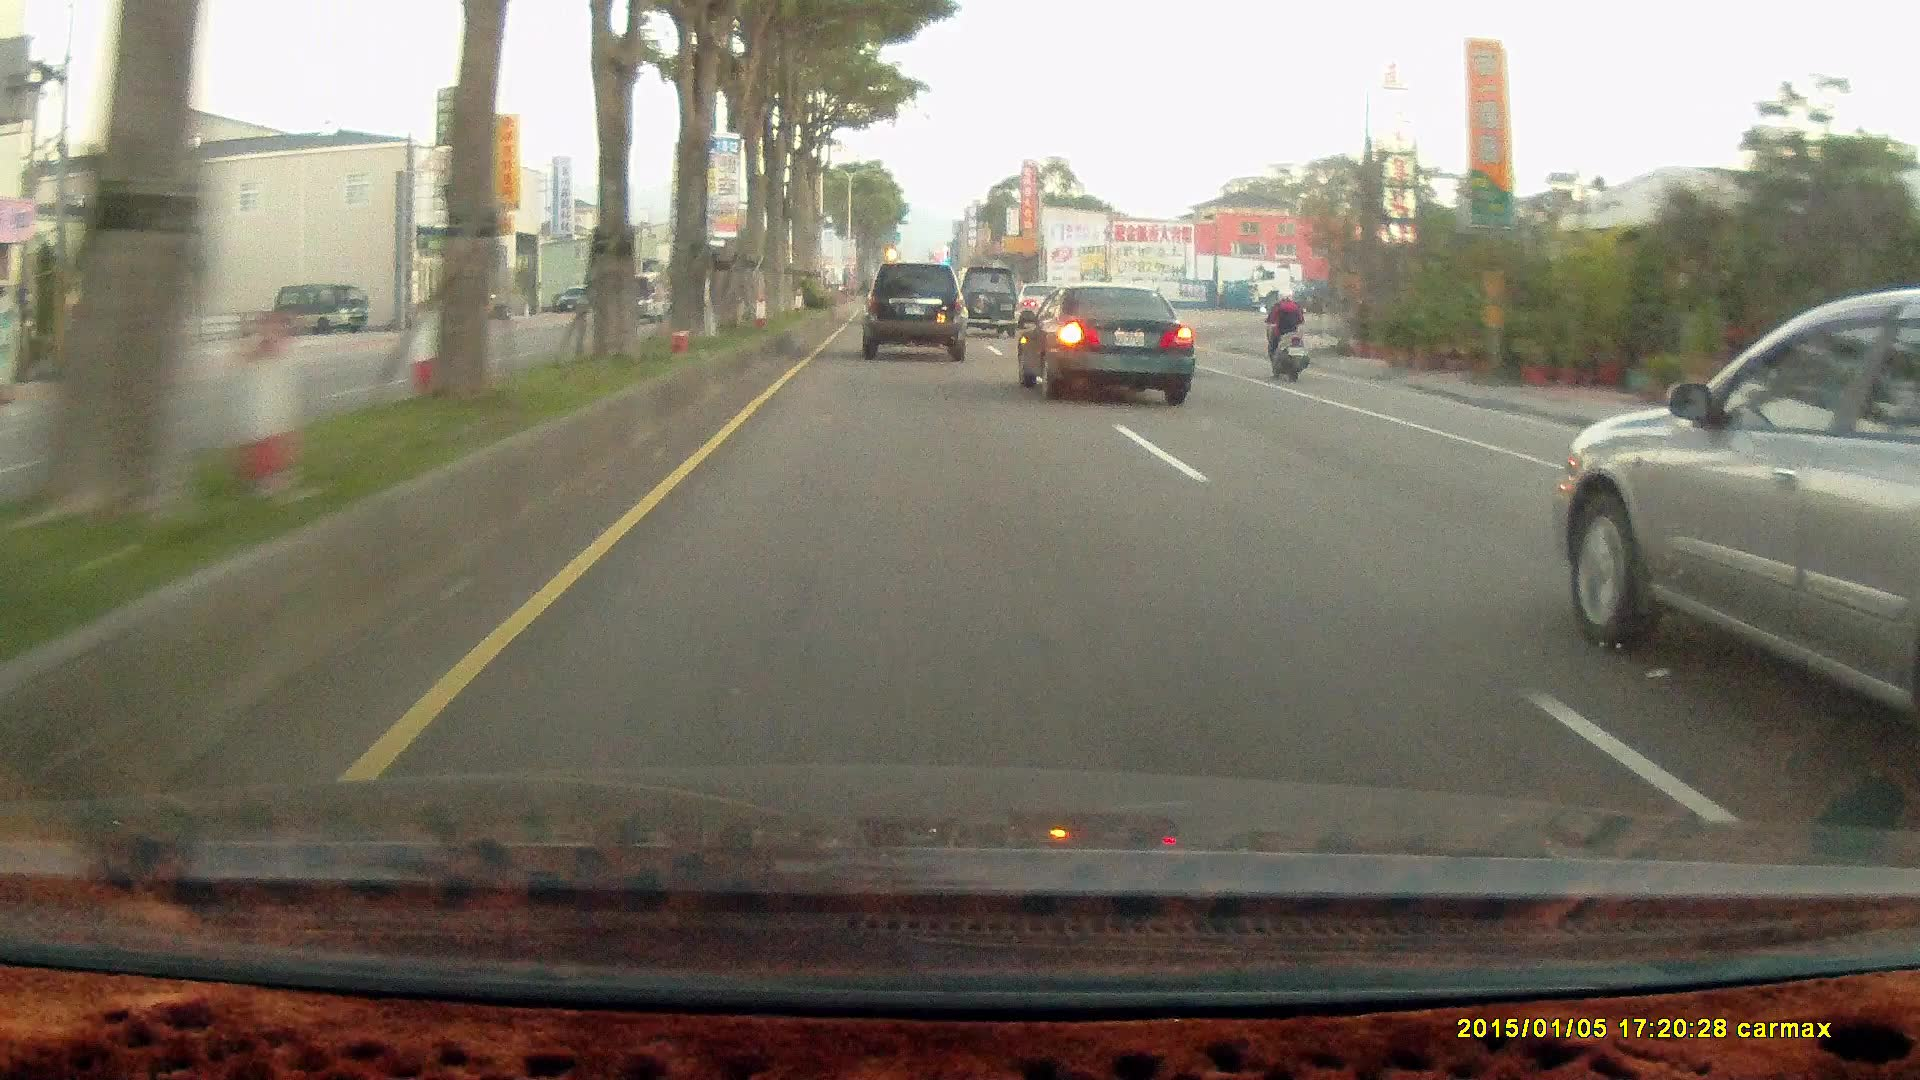rider: (1253, 279, 1321, 391), (1258, 283, 1310, 381)
vehicle: (1548, 296, 1919, 791), (1016, 282, 1195, 406), (1015, 281, 1195, 405), (1252, 261, 1480, 316), (860, 262, 969, 363), (860, 260, 965, 358), (948, 268, 1022, 343), (949, 266, 1023, 337), (274, 284, 371, 337), (274, 283, 369, 335), (604, 270, 671, 322), (556, 285, 596, 310)
